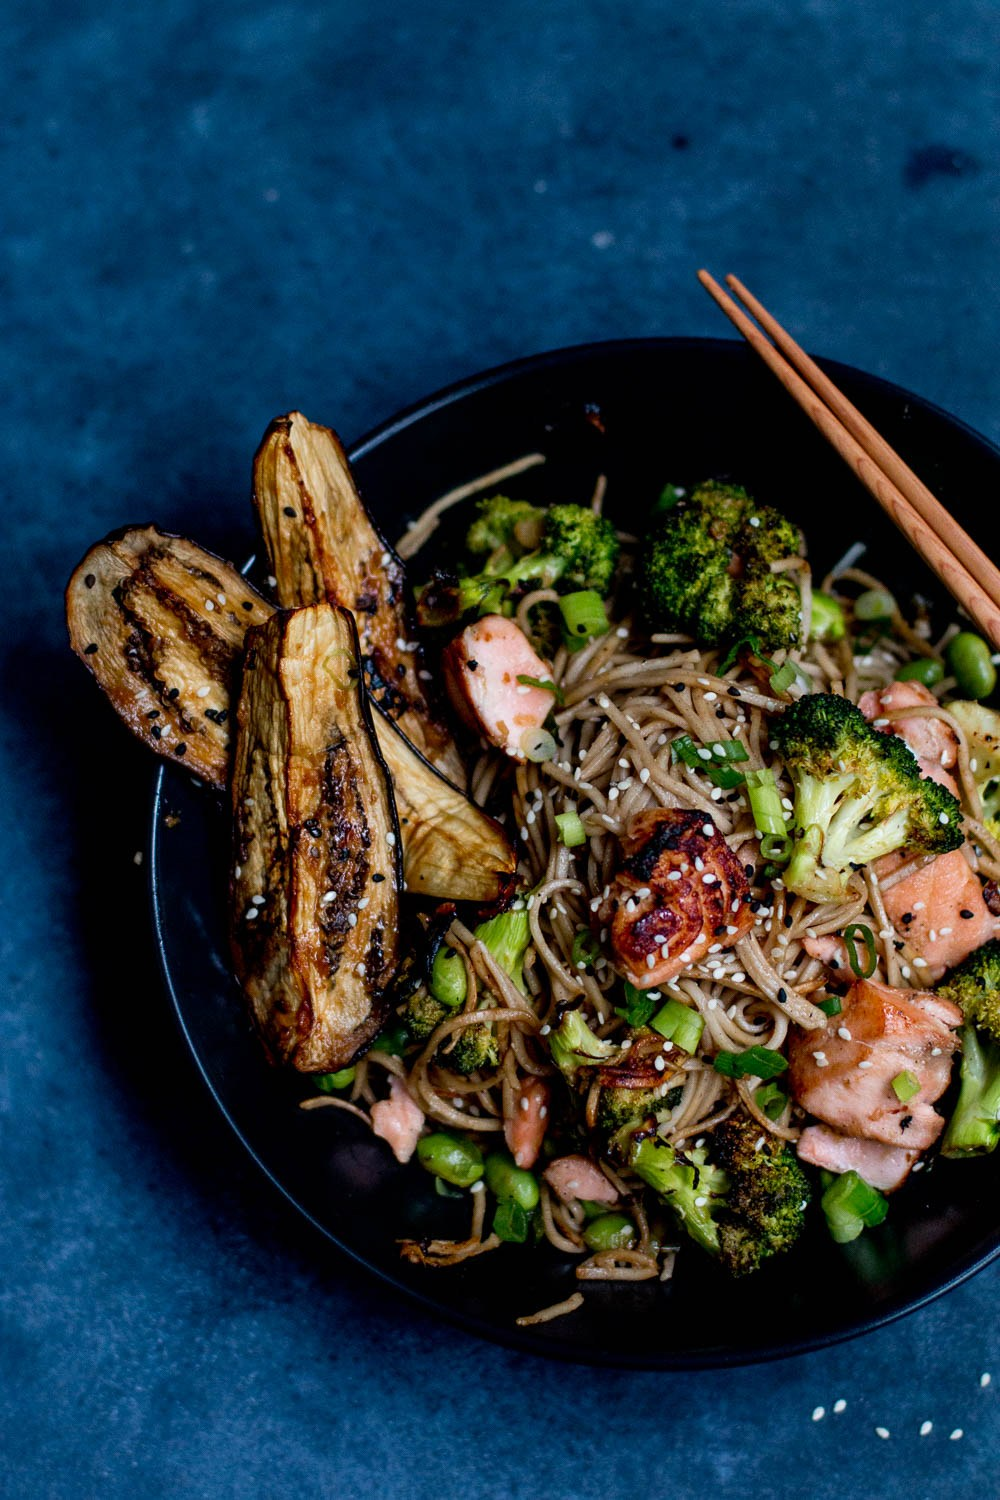Soba: (519, 614, 1000, 1165)
